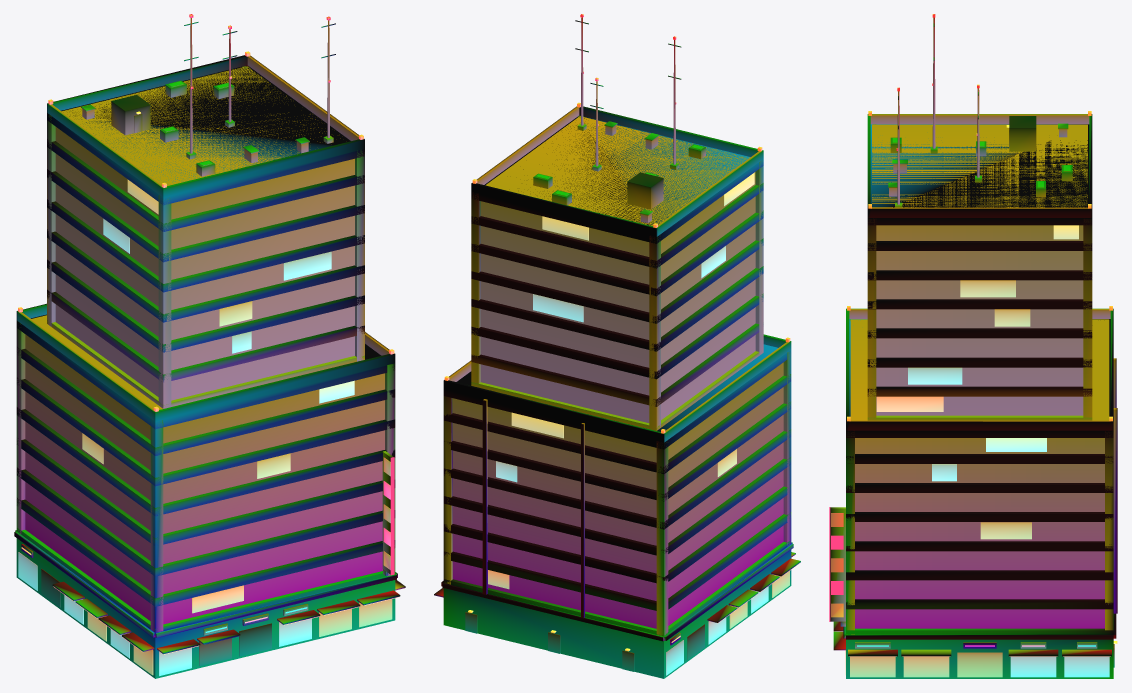
The model's file is Tower_Pad_V6.fbx.
The picture shows the model from 3 angles, left to right: view 1: azimuth 30°, elevation 25°; view 2: azimuth 150°, elevation 25°; view 3: azimuth 270°, elevation 25°; orthographic projection. The views are drawn at different scales.
Visible parts, largest first — view 1: Tower_Pad_V6_LOD0; view 2: Tower_Pad_V6_LOD0; view 3: Tower_Pad_V6_LOD0.
Part boxes in pixels (x1=…): Tower_Pad_V6_LOD0: x1=14, y1=14, x2=405, y2=678; Tower_Pad_V6_LOD0: x1=434, y1=14, x2=800, y2=678; Tower_Pad_V6_LOD0: x1=829, y1=14, x2=1117, y2=678.
Size of what is drawn, in the model's own units: 32.8 by 72.93 by 32.31.
